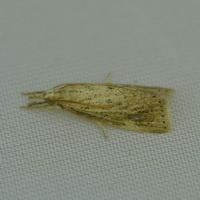insect: (21, 72, 174, 138)
